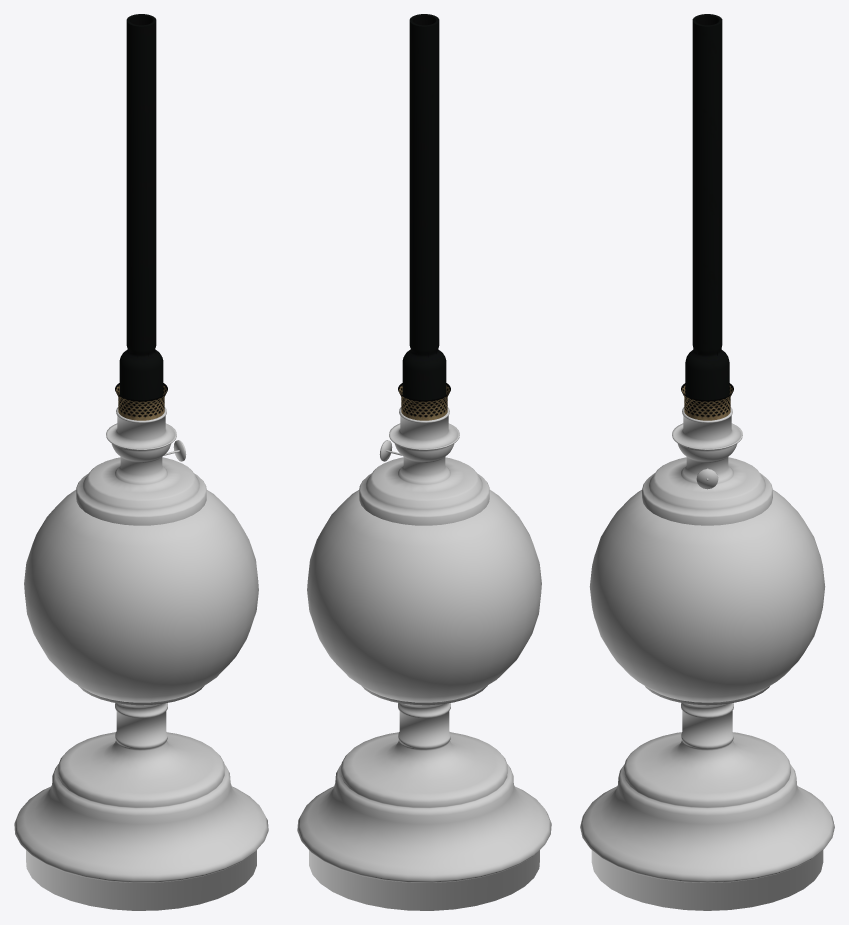
The model's file is vintage_oil_lamp_4k.gltf.
3 renders of one model, left to right at view 1: azimuth 30°, elevation 25°; view 2: azimuth 150°, elevation 25°; view 3: azimuth 270°, elevation 25°, orthographic.
Parts seen in each view (by area): view 1: vintage_oil_lamp, vintage_oil_lamp_glass; view 2: vintage_oil_lamp, vintage_oil_lamp_glass; view 3: vintage_oil_lamp, vintage_oil_lamp_glass.
Part boxes in pixels (x1,y1,x2,y2): vintage_oil_lamp: [14, 407, 268, 910]; vintage_oil_lamp_glass: [115, 14, 167, 420]; vintage_oil_lamp: [297, 407, 551, 910]; vintage_oil_lamp_glass: [398, 14, 450, 420]; vintage_oil_lamp: [580, 407, 834, 910]; vintage_oil_lamp_glass: [681, 14, 733, 420].
Bounding box in the file's own units: 0.22 × 0.8016 × 0.22.
